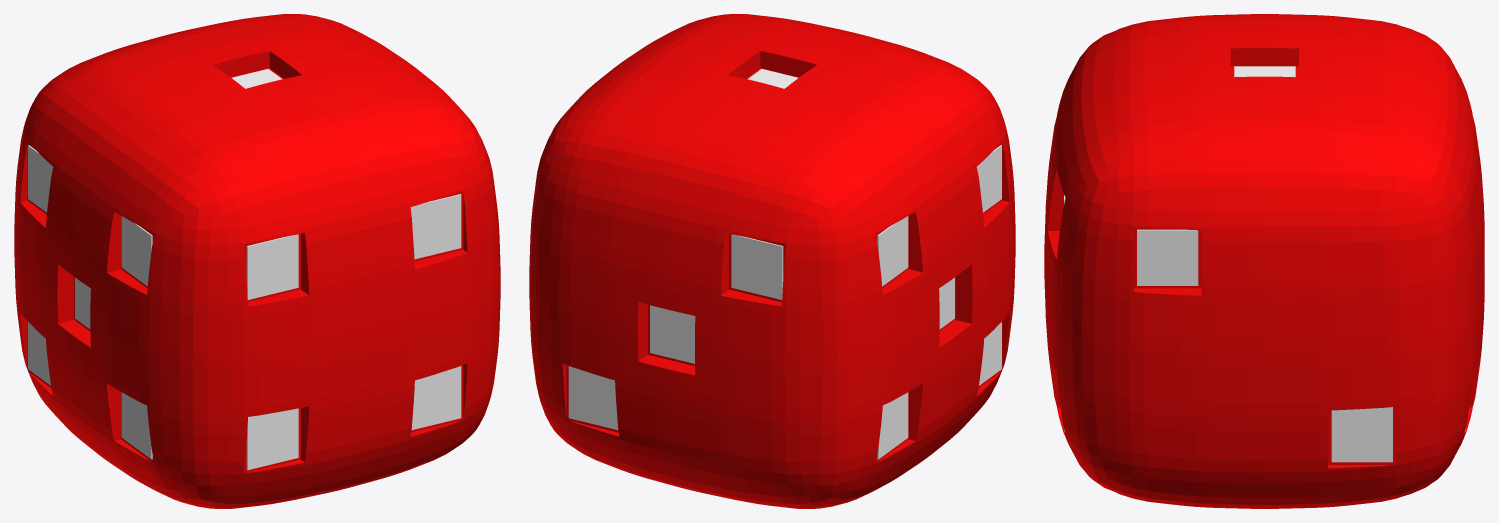
Rendered from 4_growing_dice_red.gltf.
3 views of the same model, side by side, from view 1: azimuth 30°, elevation 25°; view 2: azimuth 150°, elevation 25°; view 3: azimuth 270°, elevation 25° (orthographic). The views are drawn at different scales.
Visible parts, largest first — view 1: D6_Dice_Red; view 2: D6_Dice_Red; view 3: D6_Dice_Red.
Part boxes in pixels (box(x1,y1,x2,y2)): D6_Dice_Red: box(14, 14, 500, 508); D6_Dice_Red: box(529, 14, 1015, 508); D6_Dice_Red: box(1044, 14, 1484, 508).
Size of the model in its own units: 2.26 by 2.26 by 2.26.
